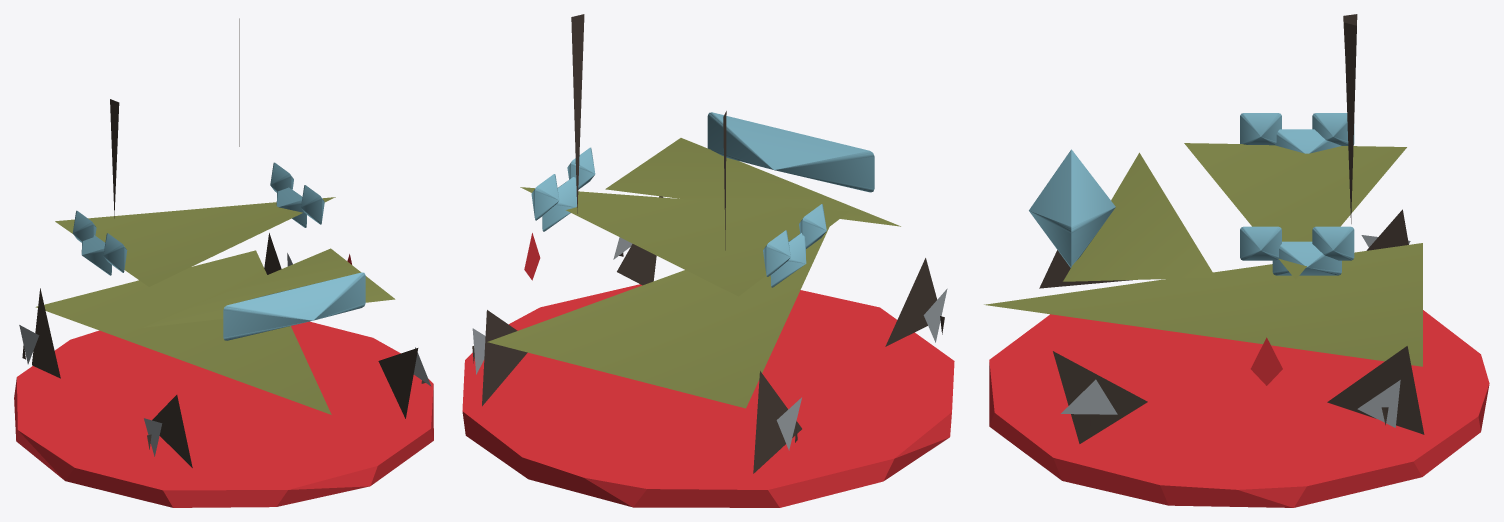
File: soviet_union_headquarters_lod1.glb
3 views of the same model, side by side, from view 1: azimuth 30°, elevation 25°; view 2: azimuth 150°, elevation 25°; view 3: azimuth 270°, elevation 25° (orthographic). The views are drawn at different scales.
Parts seen in each view (by area): view 1: base_pedestal, body_hull; view 2: body_hull, base_pedestal; view 3: body_hull, base_pedestal.
Boxes of the visible parts, x1,y1,x2,y2 form: base_pedestal: (14,321,433,507); body_hull: (19,18,431,467); body_hull: (472,14,947,473); base_pedestal: (462,284,954,507); body_hull: (984,14,1424,443); base_pedestal: (989,310,1489,507).
Size of the model in its own units: 0.7751 by 0.7101 by 0.7842.
